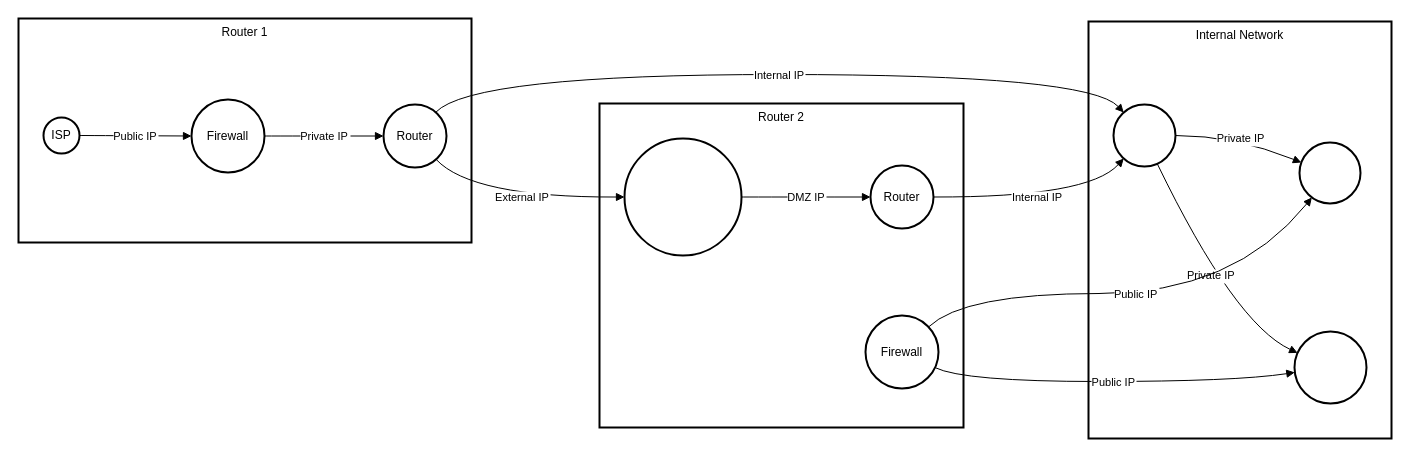
Image size: 1409x456. Some labels were removed from this diagram. The shapes that lost their labels are listed below. From the top down, each one's centre as x and y in pixels, then its label:
the point at 1144,135: Switch
the point at 1329,172: Server
the point at 682,196: Load Balancer
the point at 1330,367: Desktop
